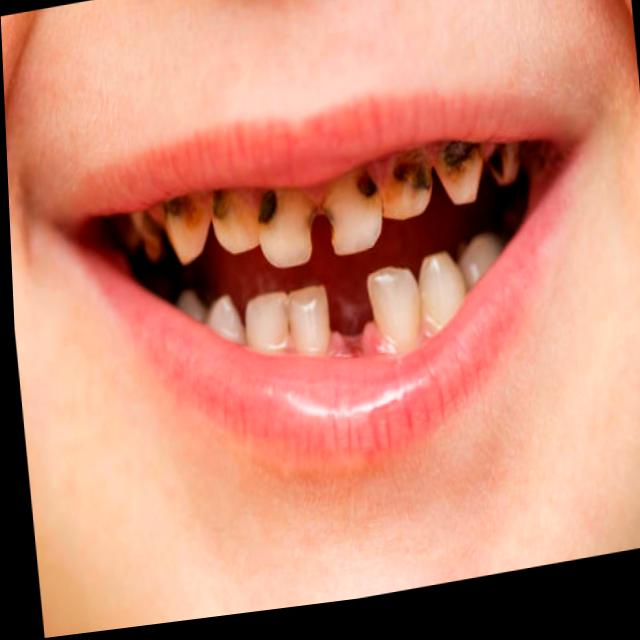cariess: (435, 142, 519, 197), (113, 211, 163, 257), (391, 155, 431, 205), (164, 196, 200, 236), (347, 174, 380, 204), (259, 190, 276, 222)
